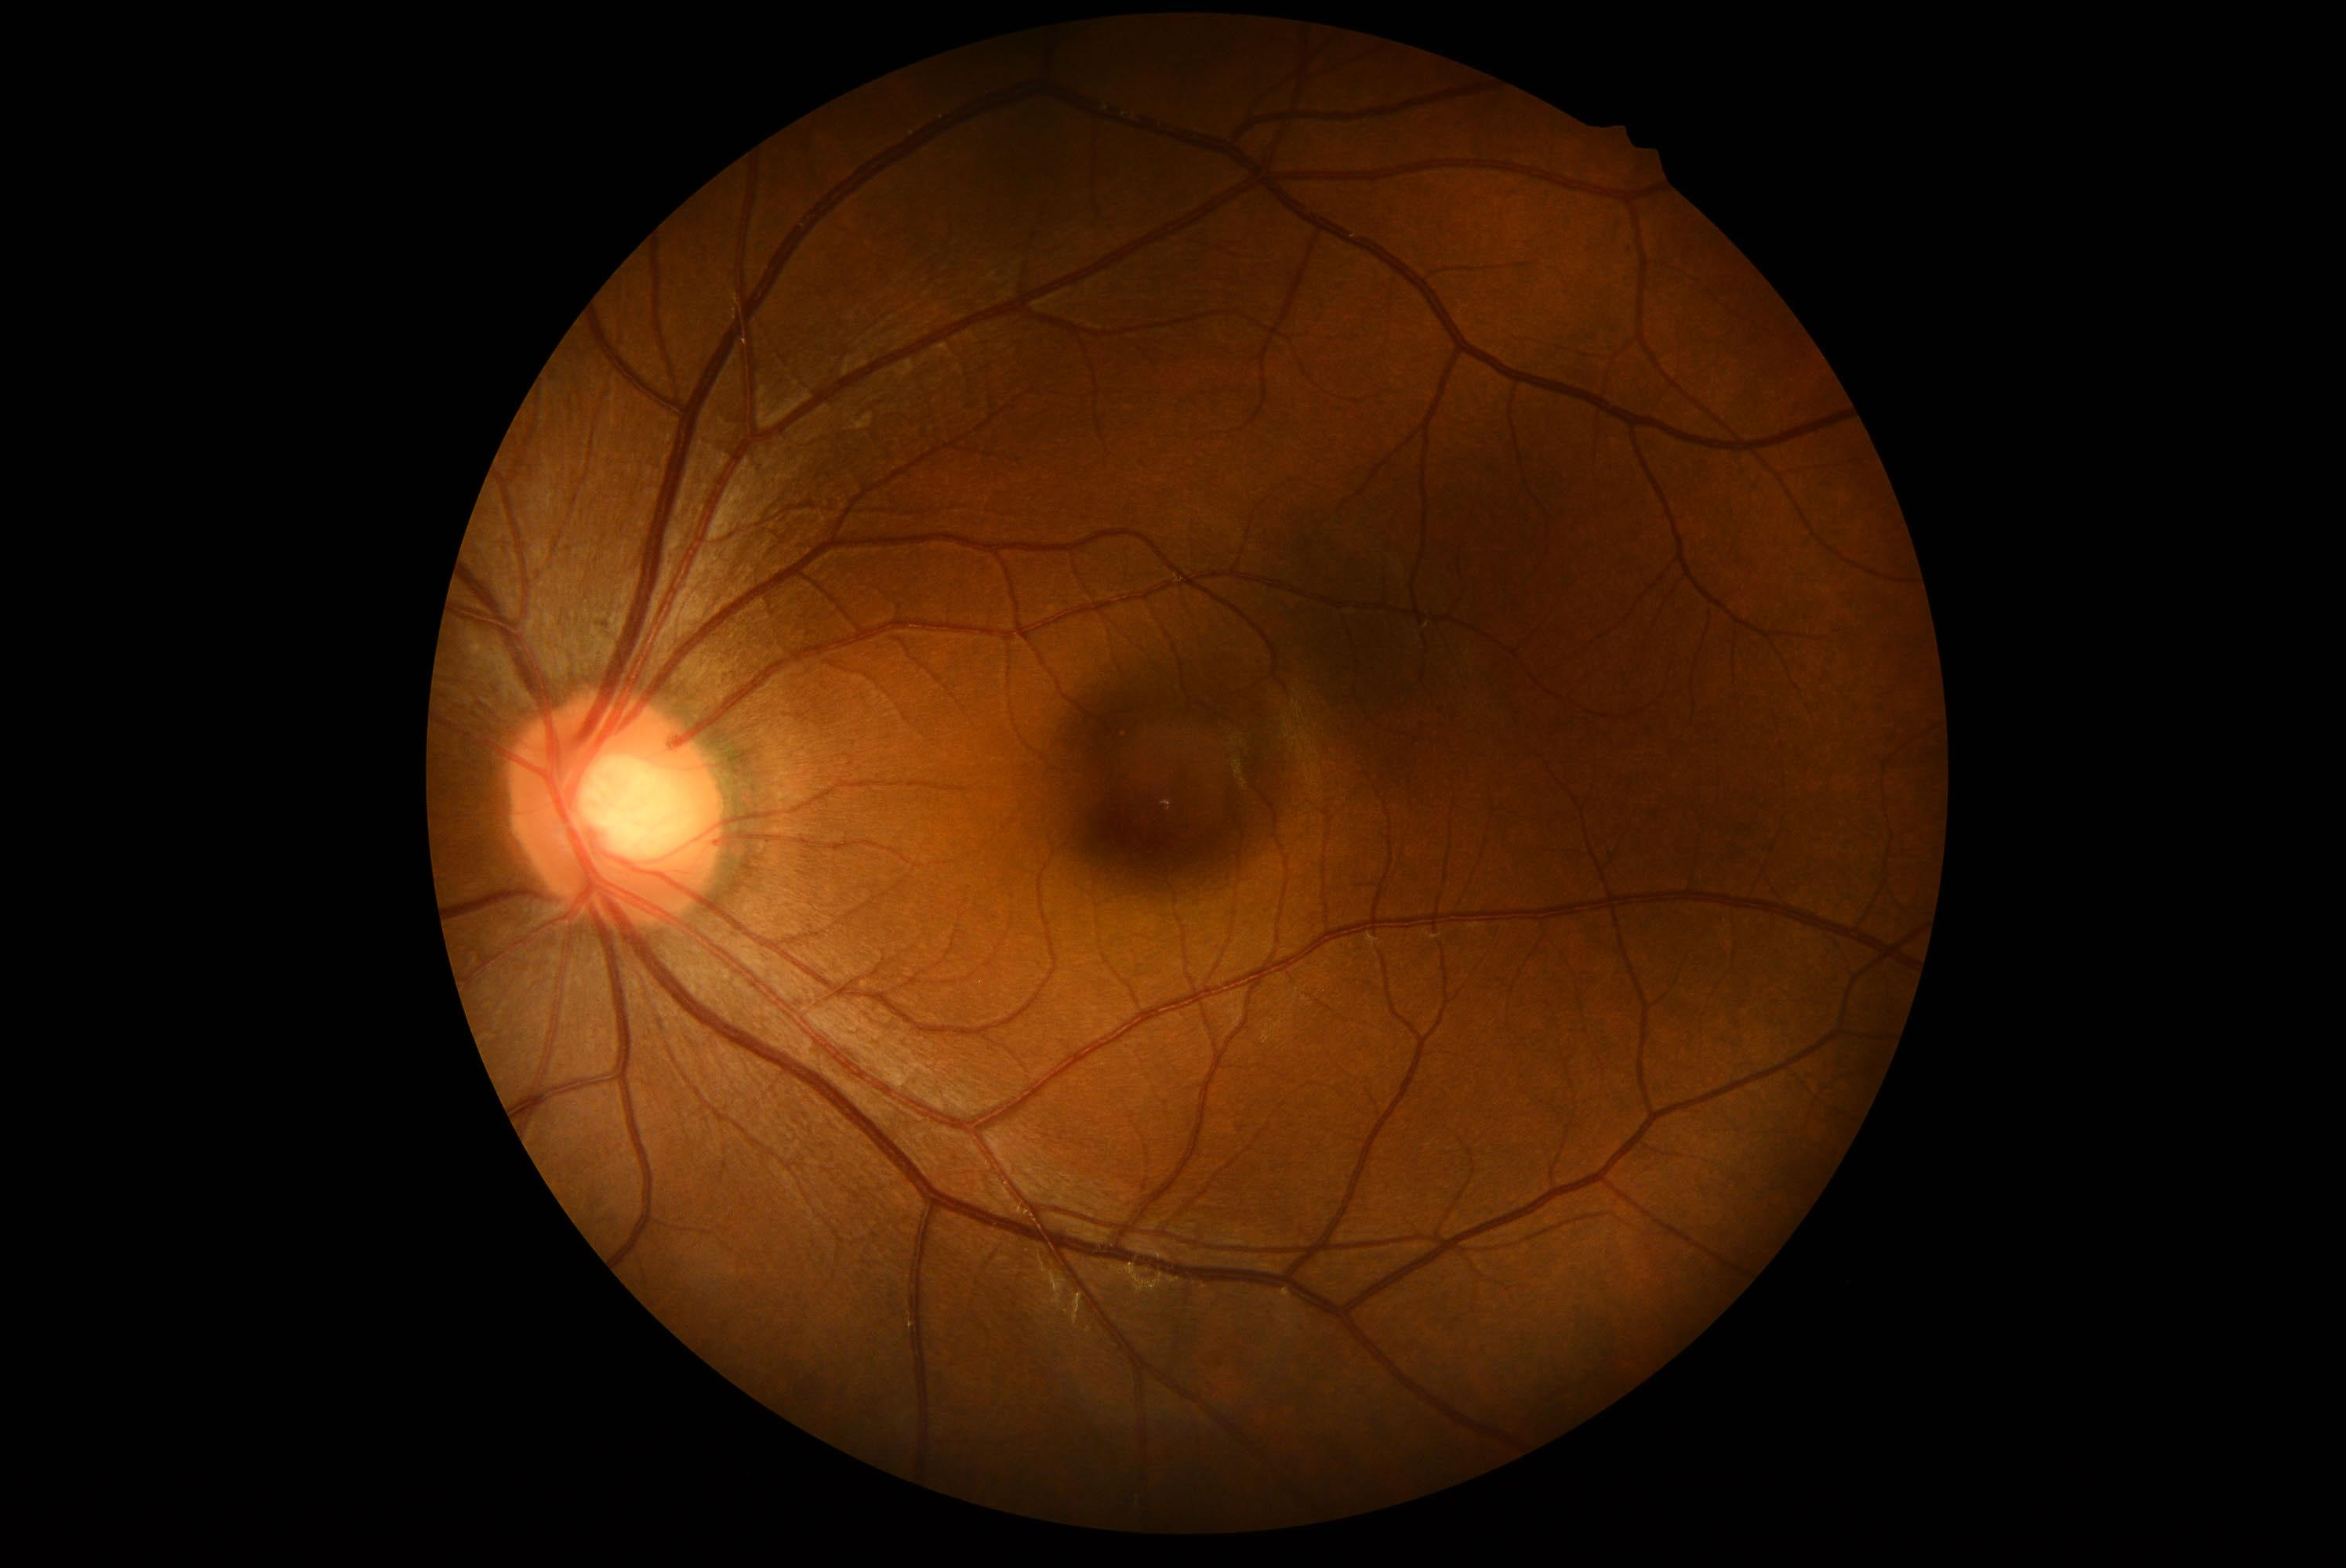Fovea: (1097, 724, 1240, 873)
